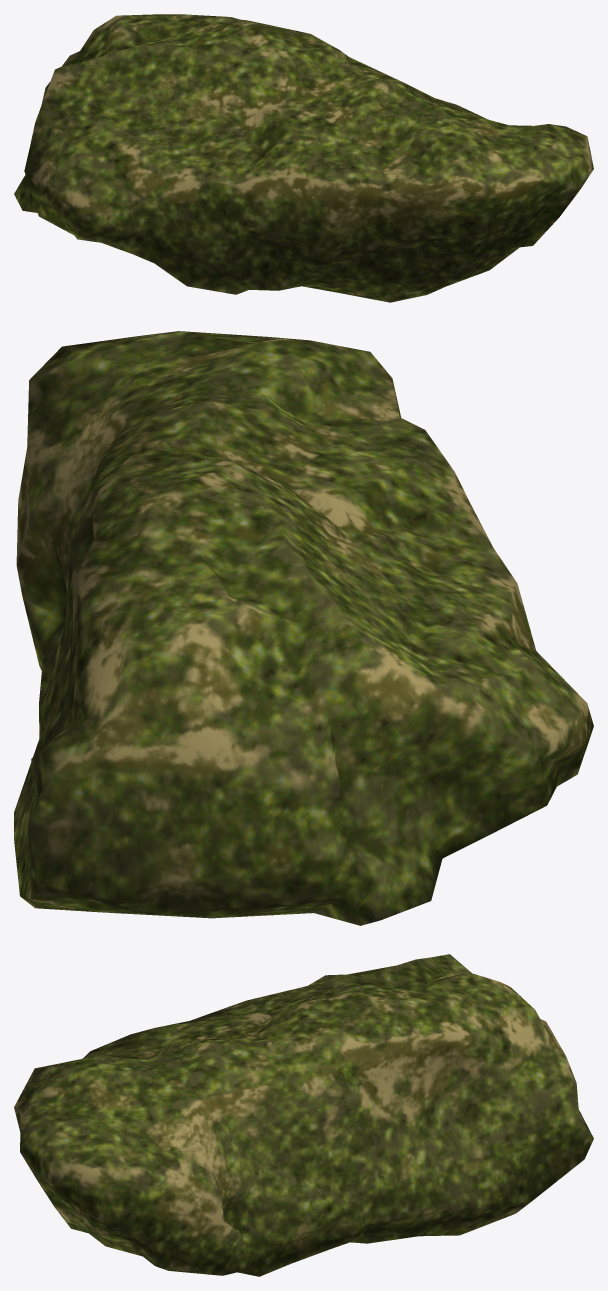
Rendered from mm8_deco_rock28.glb.
3 renders of one model, top to bottom at view 1: azimuth 30°, elevation 25°; view 2: azimuth 150°, elevation 25°; view 3: azimuth 270°, elevation 25°, orthographic. The views are drawn at different scales.
Visible parts, largest first — view 1: Rock28; view 2: Rock28; view 3: Rock28.
Part boxes in pixels (bbox=[...]): Rock28: bbox=[14, 14, 593, 302]; Rock28: bbox=[14, 331, 593, 925]; Rock28: bbox=[14, 954, 593, 1276].
Bounding box in the file's own units: 0.7181 × 0.3575 × 0.8138.
1 material, 1 textured.
